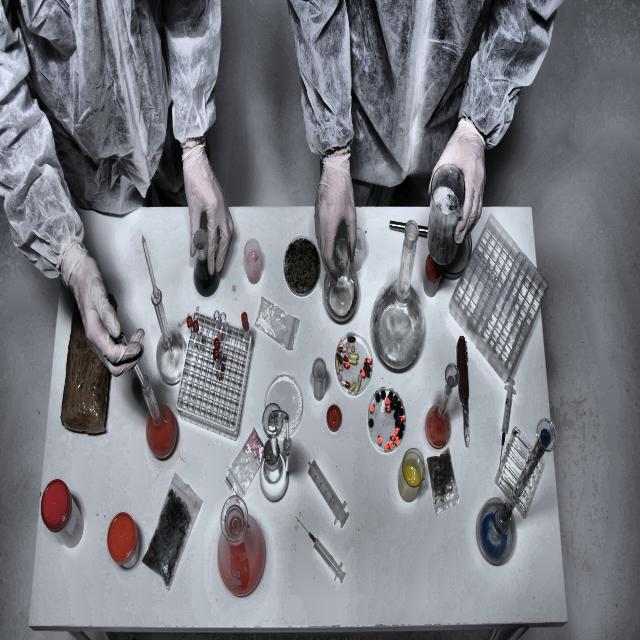gloved: (58, 235, 146, 376), (427, 105, 504, 252), (171, 148, 243, 273), (312, 146, 364, 290)
